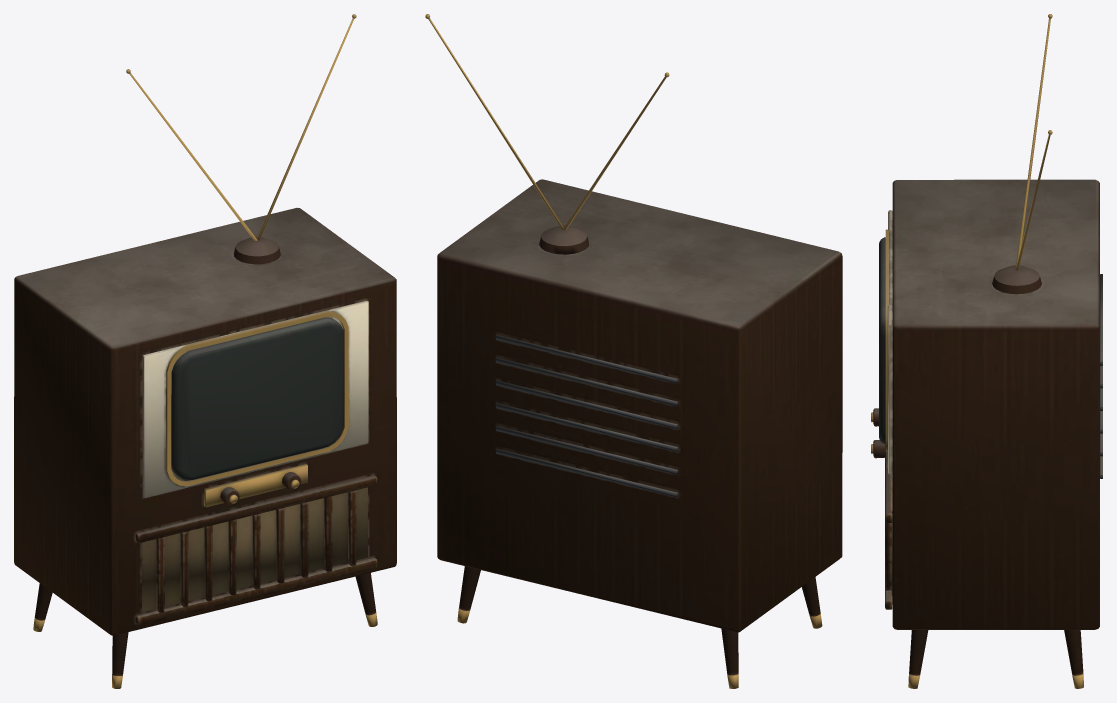
Rendered from tv_console-low.glb.
3 views of the same model, side by side, from view 1: azimuth 30°, elevation 25°; view 2: azimuth 150°, elevation 25°; view 3: azimuth 270°, elevation 25° (orthographic). The views are drawn at different scales.
Parts seen in each view (by area): view 1: tv_console-low; view 2: tv_console-low; view 3: tv_console-low.
Boxes of the visible parts, x1,y1,x2,y2 form: tv_console-low: [14, 14, 396, 688]; tv_console-low: [425, 14, 842, 688]; tv_console-low: [871, 14, 1102, 688].
Size of the model in its own units: 0.9353 by 1.54 by 0.5571.
1 material, 1 textured.
